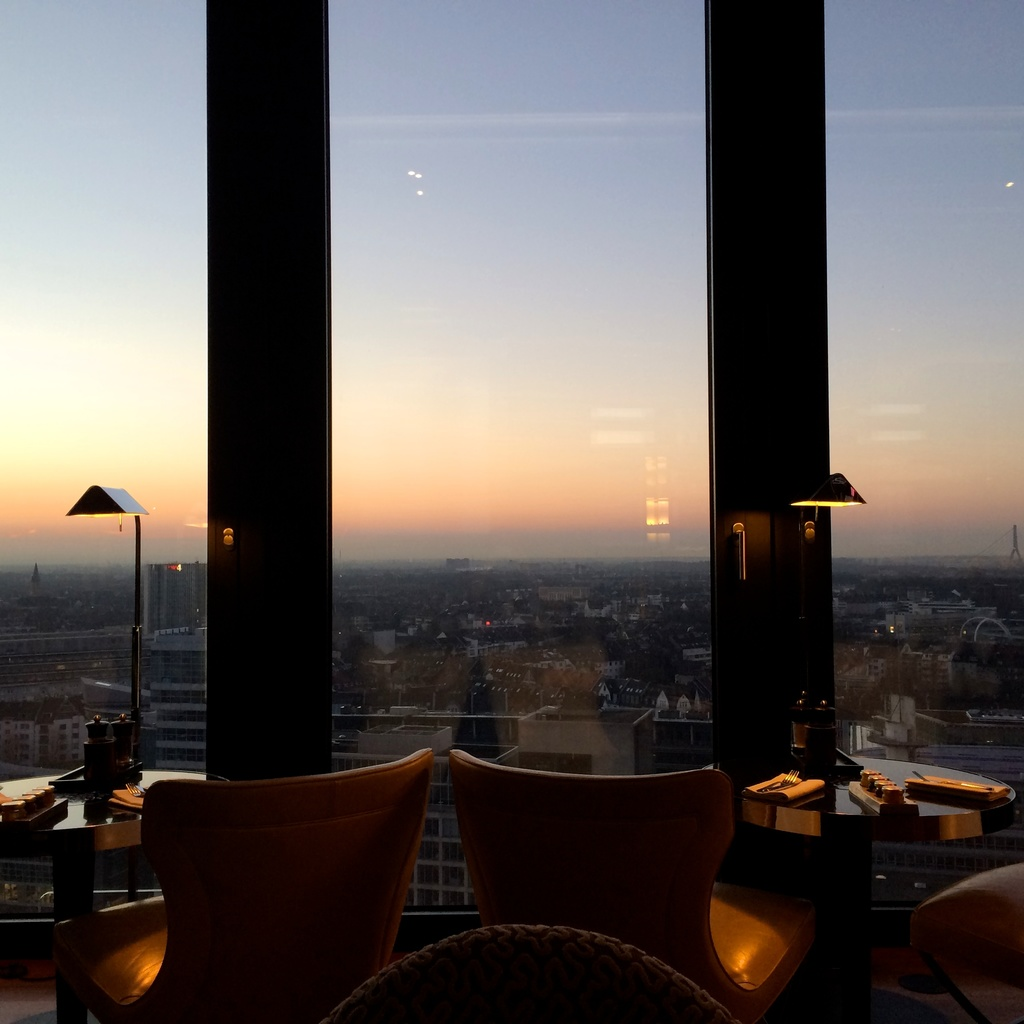Chair: (452, 747, 819, 1023), (111, 744, 454, 1019), (317, 922, 737, 1023), (906, 859, 1023, 987)
